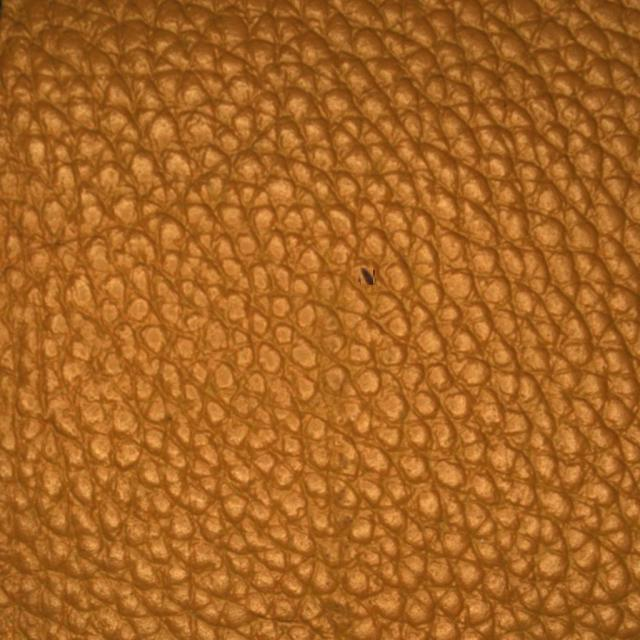pinhole: (244, 204, 481, 336)
